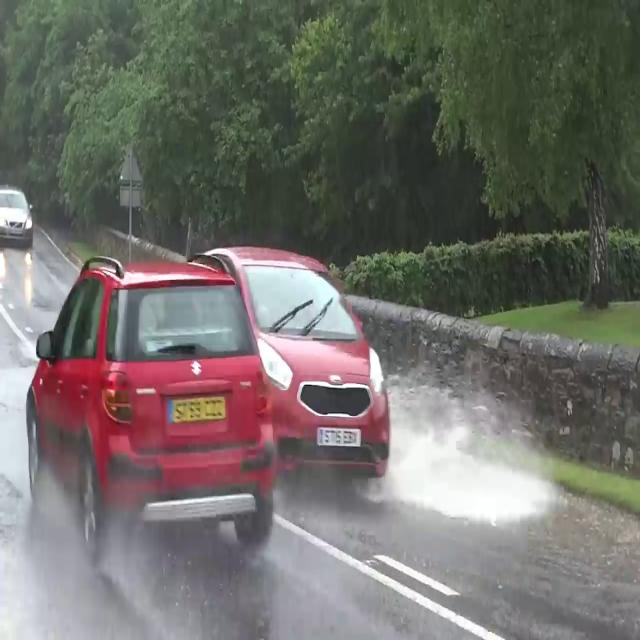license-plate-annotation: (162, 395, 234, 427)
